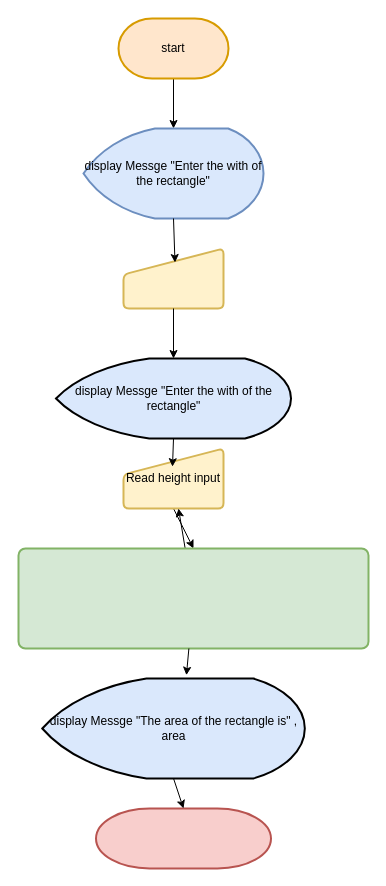
Image size: 386x886. Some labels were removed from this diagram. Each missing label, with the centre of its shape:
"Calculate area: area = width * height" goes at (193,598).
"End" goes at (183,838).
"Read width input" goes at (173,278).
